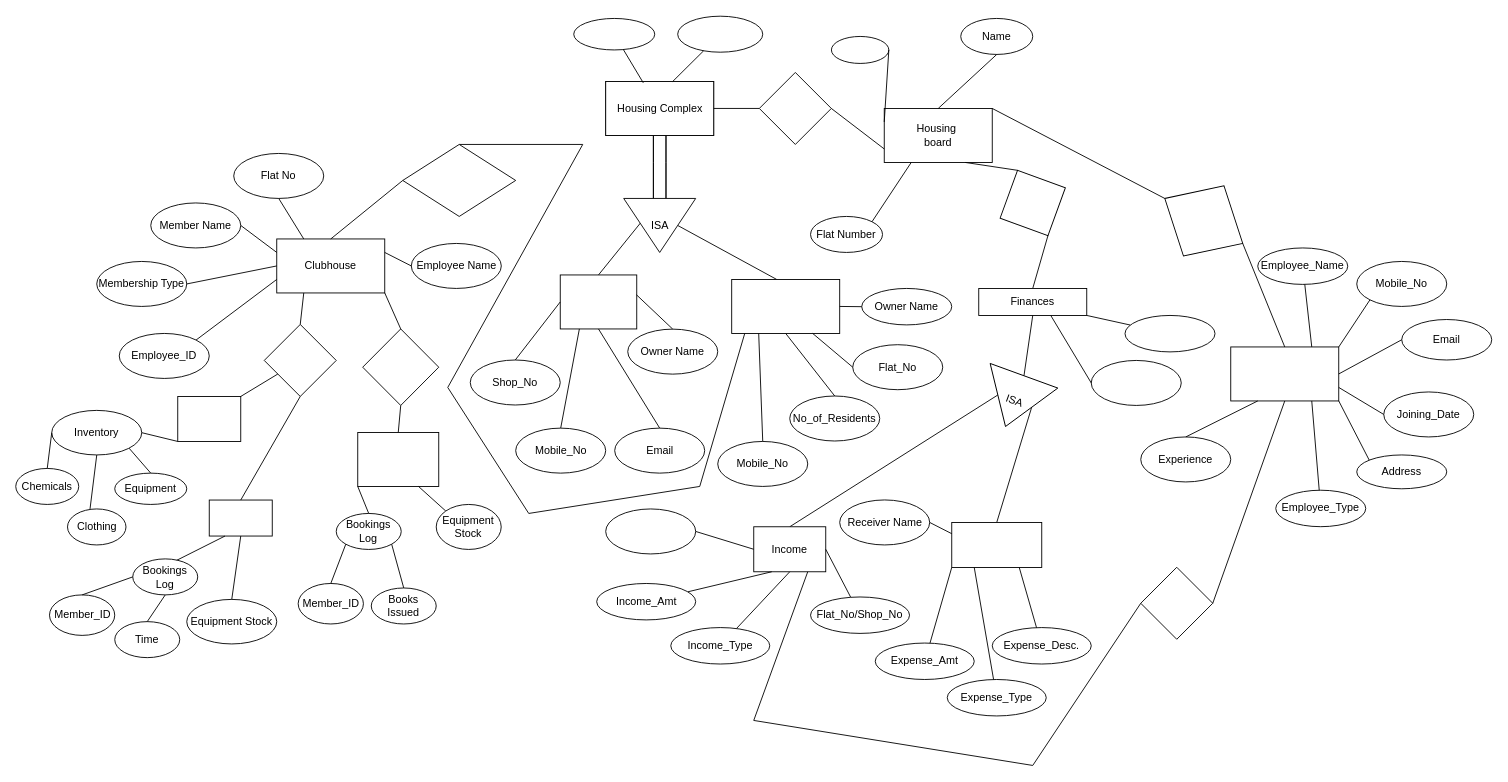
This 1508x782 diagram has some shape labels left out. The shapes that lost their labels are listed below. From the top down, each one's box as (x1, y1, x2, y2) in pixels, then its label:
(573, 18, 655, 50): Block No
(677, 15, 763, 52): Property ID
(831, 36, 889, 63): Post
(758, 72, 831, 144): Manages
(402, 144, 516, 216): Entertainment
(984, 154, 1081, 251): Handles
(1143, 162, 1263, 279): Contracts
(559, 274, 637, 329): Commercial Property
(731, 279, 840, 333): Resedential property
(1124, 315, 1215, 352): Transaction_Date
(263, 324, 336, 396): Outdoor activities
(362, 328, 439, 405): Indoor Activities
(1230, 346, 1339, 401): Workforce
(1090, 360, 1181, 405): Transaction_ID
(177, 396, 241, 441): Swimming pool
(357, 432, 439, 486): Gym
(208, 499, 272, 536): Games Area
(605, 508, 696, 554): Sender Name
(951, 522, 1042, 567): Expenses
(1140, 566, 1213, 639): Pays
